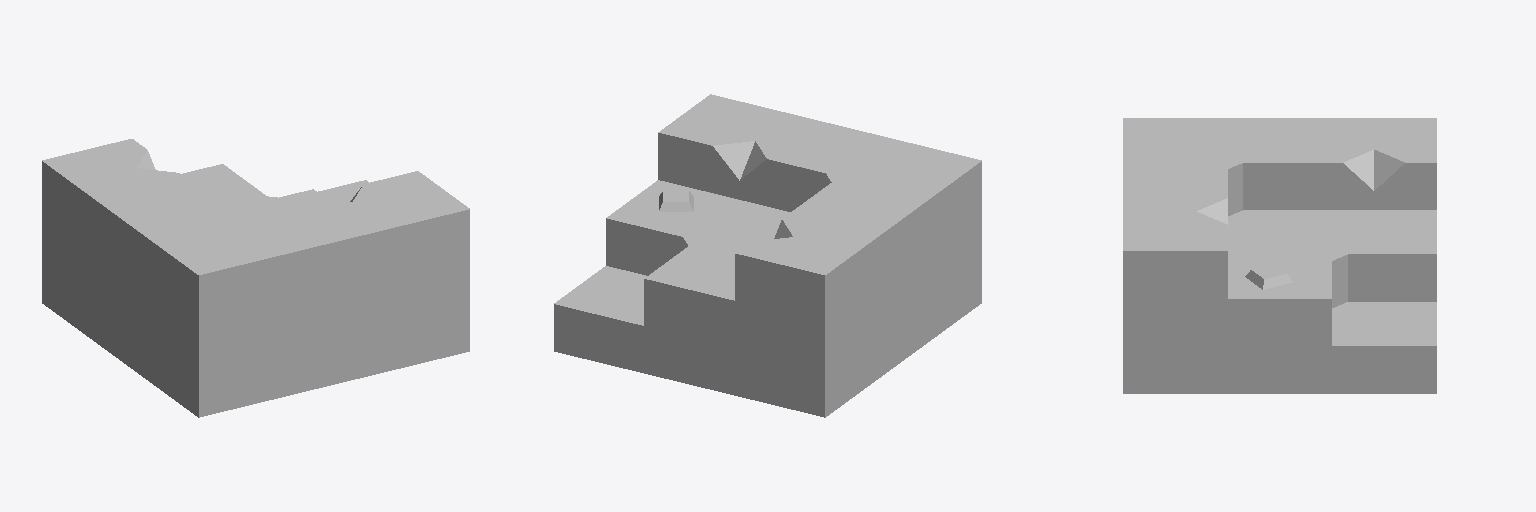
The model's file is stairs-corner-inner.001.obj.
3 views of the same model, side by side, from view 1: azimuth 30°, elevation 25°; view 2: azimuth 150°, elevation 25°; view 3: azimuth 270°, elevation 25° (orthographic).
Visible parts, largest first — view 1: stairs-corner-inner.003; view 2: stairs-corner-inner.003; view 3: stairs-corner-inner.003.
Boxes of the visible parts, x1=… form: stairs-corner-inner.003: x1=42, y1=139, x2=469, y2=417; stairs-corner-inner.003: x1=554, y1=94, x2=981, y2=417; stairs-corner-inner.003: x1=1123, y1=118, x2=1436, y2=393.
Bounding box in the file's own units: 1 × 0.5 × 1.